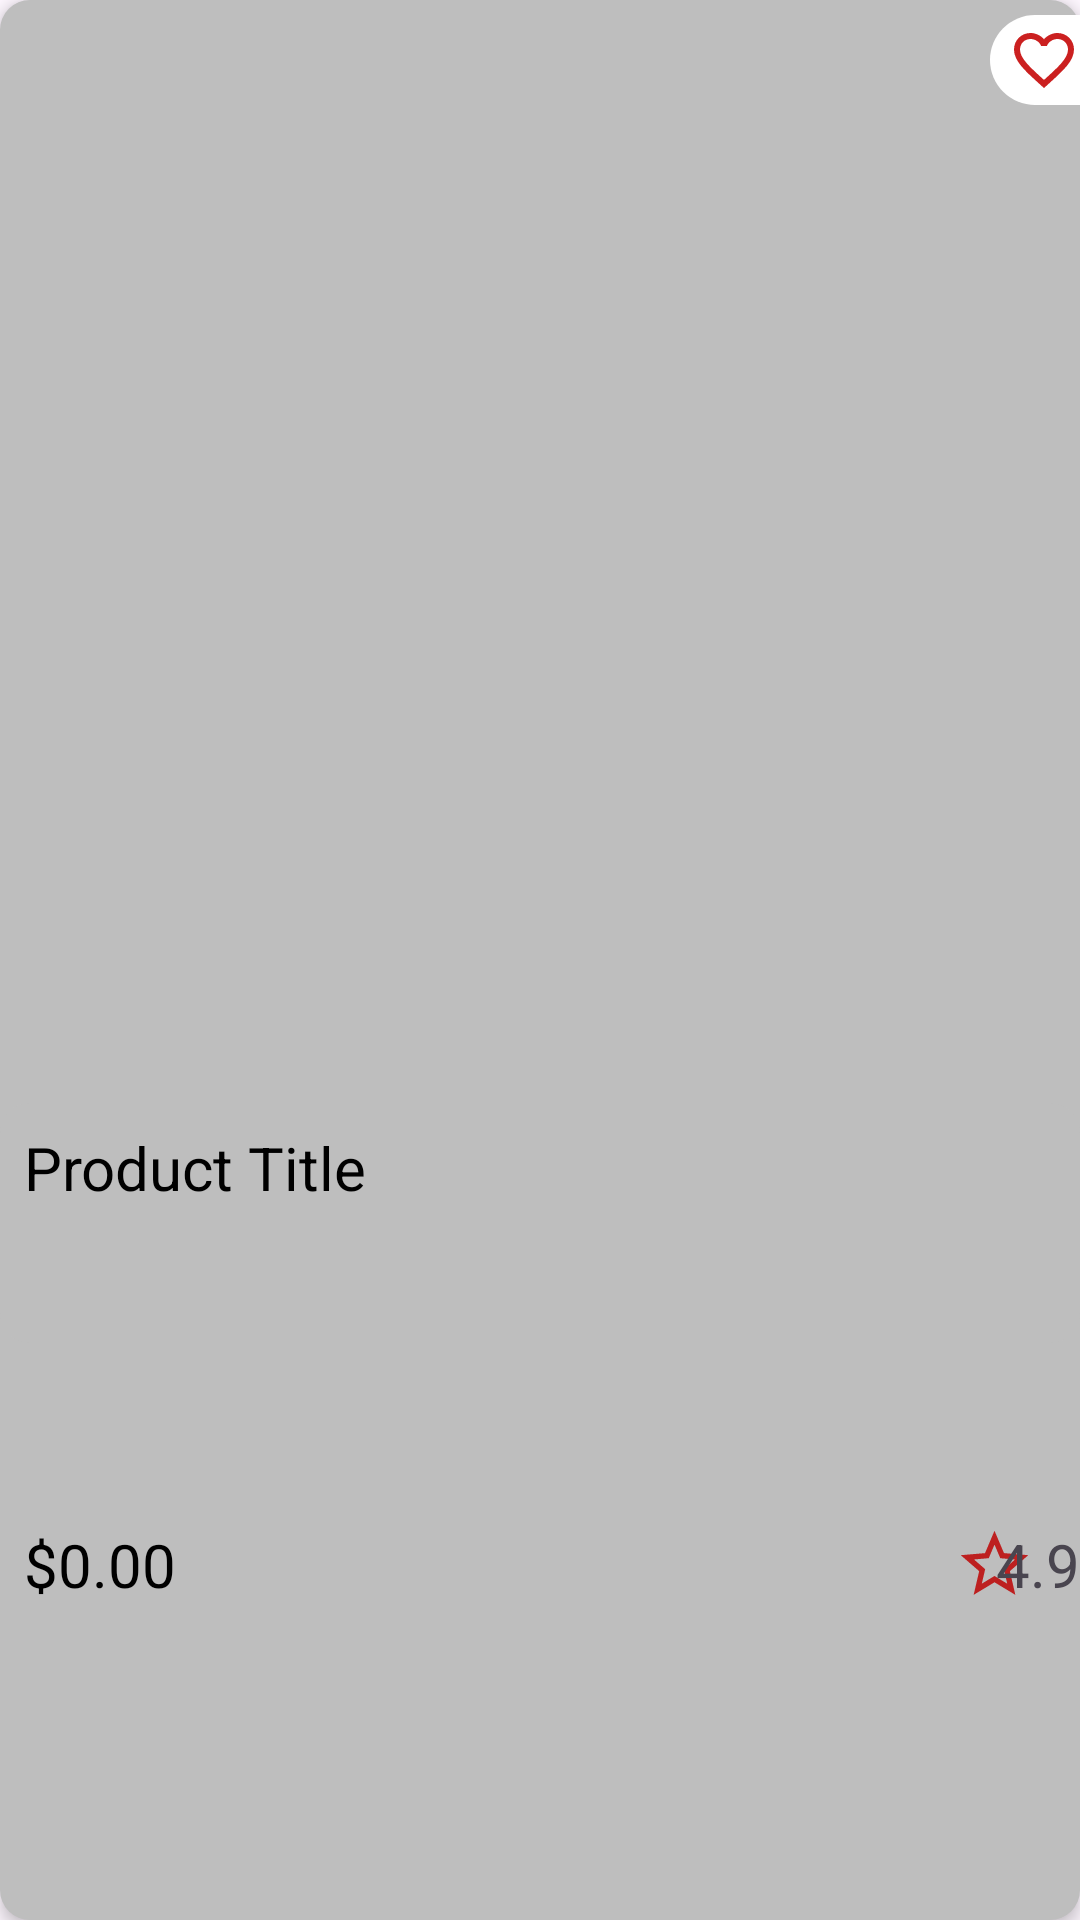

Icon click points for this 1080 x 1920 phone screenshot, format point (x, y):
favorite border: point (1044, 60)
star border: point (995, 1563)
